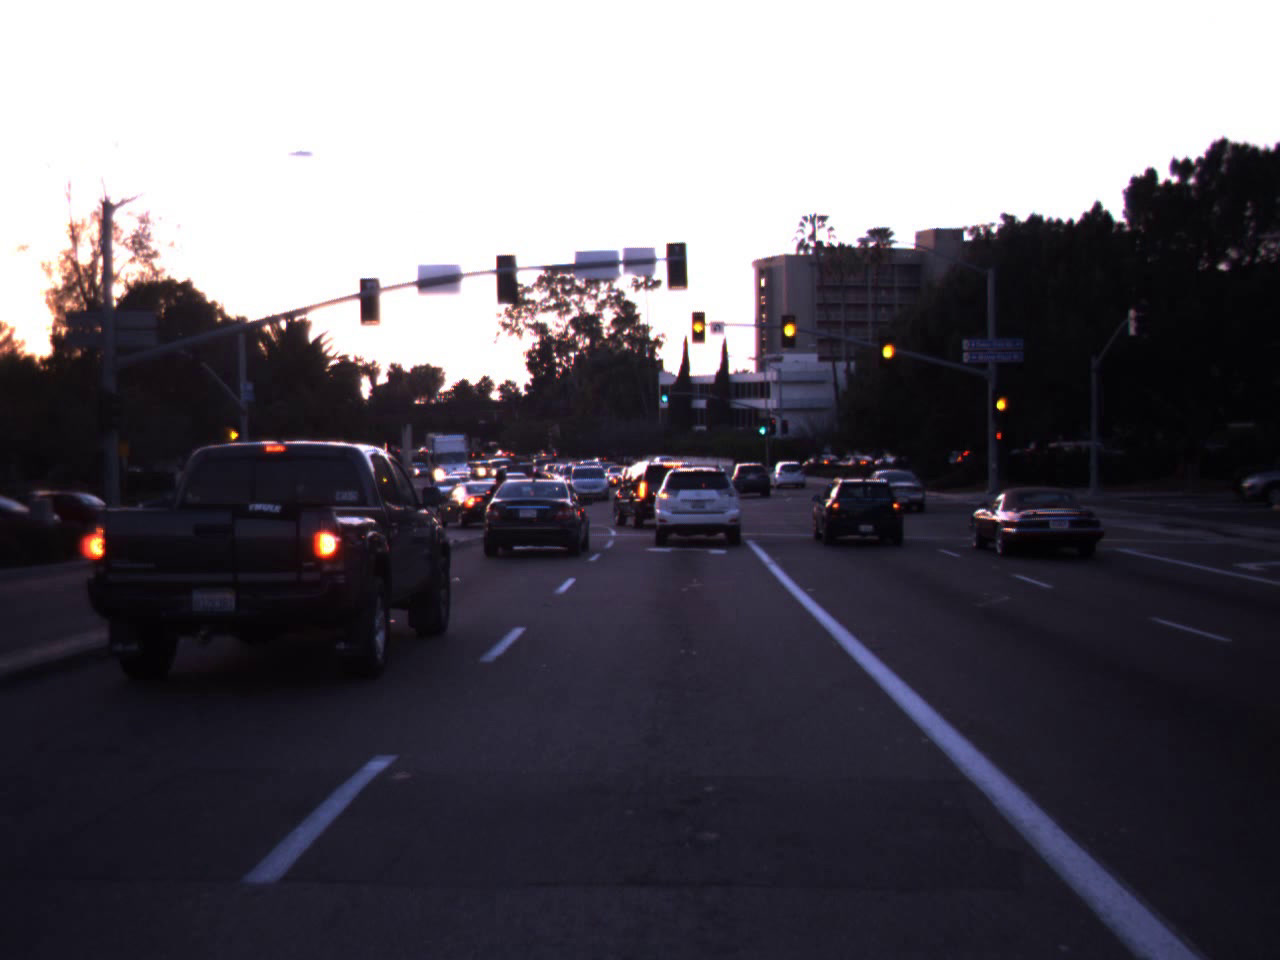go: (657, 375, 672, 405), (757, 413, 769, 433)
warning: (772, 300, 808, 354), (984, 374, 1017, 428), (876, 324, 900, 373), (686, 308, 710, 344)
